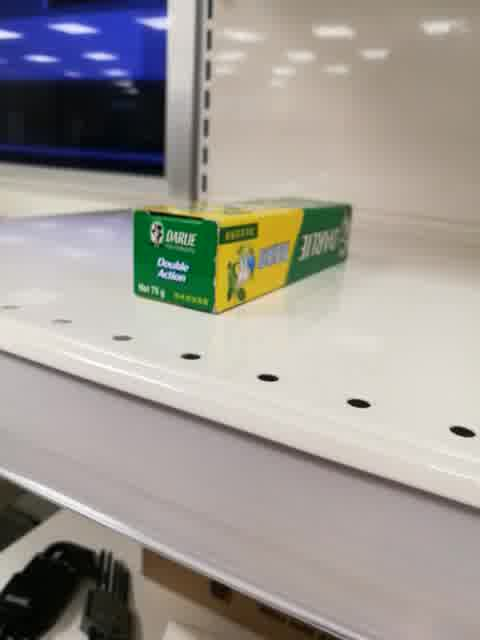toothpaste: (133, 198, 353, 316)
